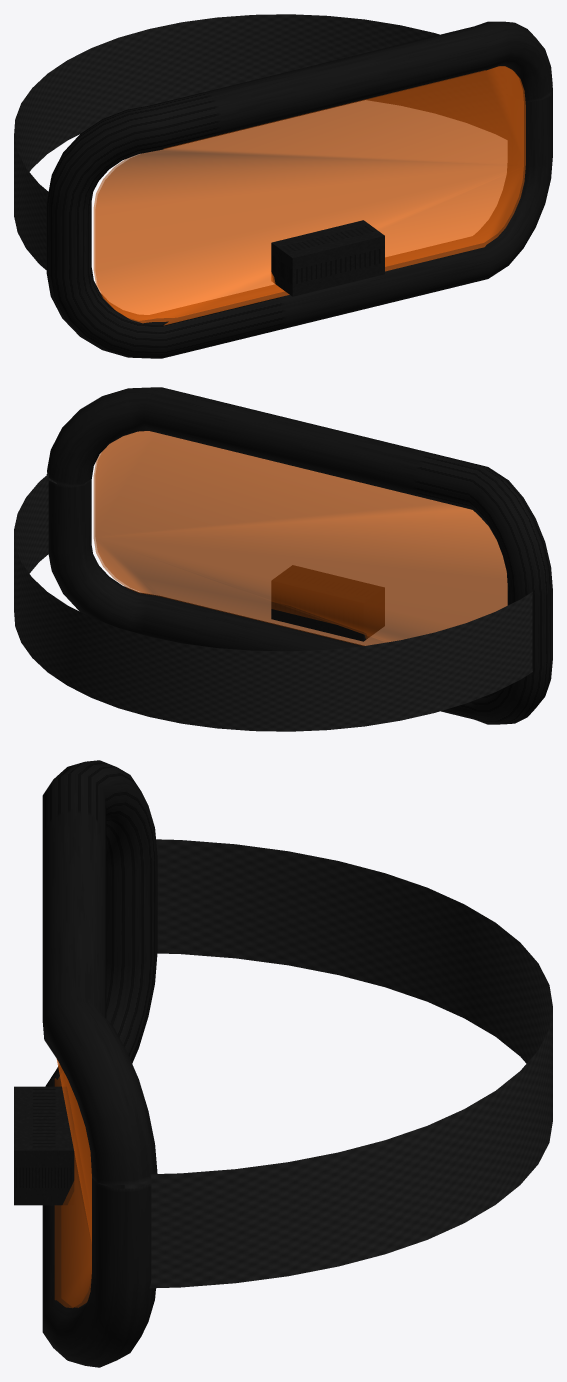
Rendered from OrangeGoggles.obj.
3 renders of one model, top to bottom at view 1: azimuth 30°, elevation 25°; view 2: azimuth 150°, elevation 25°; view 3: azimuth 270°, elevation 25°, orthographic. The views are drawn at different scales.
Visible parts, largest first — view 1: Frame, LensOrange; view 2: Frame, LensOrange; view 3: Frame, LensOrange.
Boxes of the visible parts, x1,y1,x2,y2 form: Frame: (14, 14, 552, 358); LensOrange: (93, 66, 525, 325); Frame: (14, 387, 552, 731); LensOrange: (93, 431, 507, 645); Frame: (14, 760, 552, 1367); LensOrange: (54, 1059, 91, 1307).
Bounding box in the file's own units: 0.1624 × 0.078 × 0.107.
Materials: 2 (1 with a texture image).
